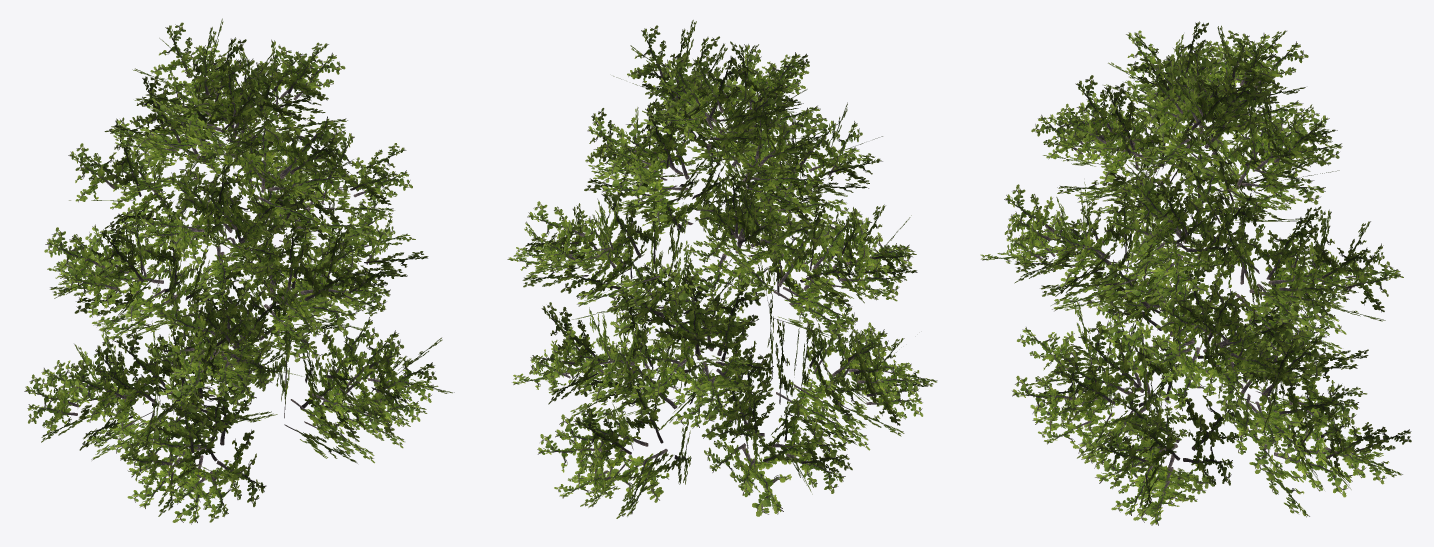
File: tree_leaves.glb
3 views of the same model, side by side, from view 1: azimuth 30°, elevation 25°; view 2: azimuth 150°, elevation 25°; view 3: azimuth 270°, elevation 25° (orthographic). The views are drawn at different scales.
Visible parts, largest first — view 1: LowPolyTree_Default OBJ_0; view 2: LowPolyTree_Default OBJ_0; view 3: LowPolyTree_Default OBJ_0.
Part boxes in pixels (x1,y1,x2,y2): LowPolyTree_Default OBJ_0: (24,18,454,524); LowPolyTree_Default OBJ_0: (507,20,937,518); LowPolyTree_Default OBJ_0: (980,21,1411,525).
Bounding box in the file's own units: 26.2 × 29.48 × 25.14.
1 material, 1 textured.
